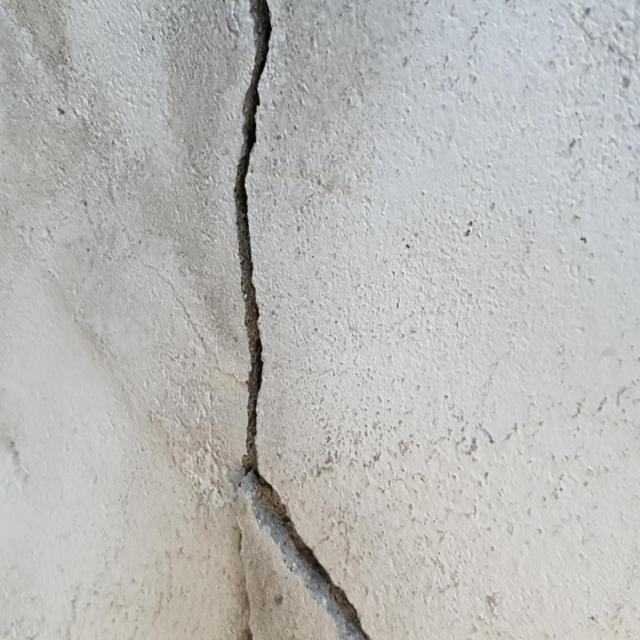SurfaceCrack: (193, 0, 386, 639)
